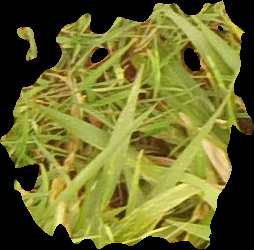grass: (1, 1, 253, 249)
